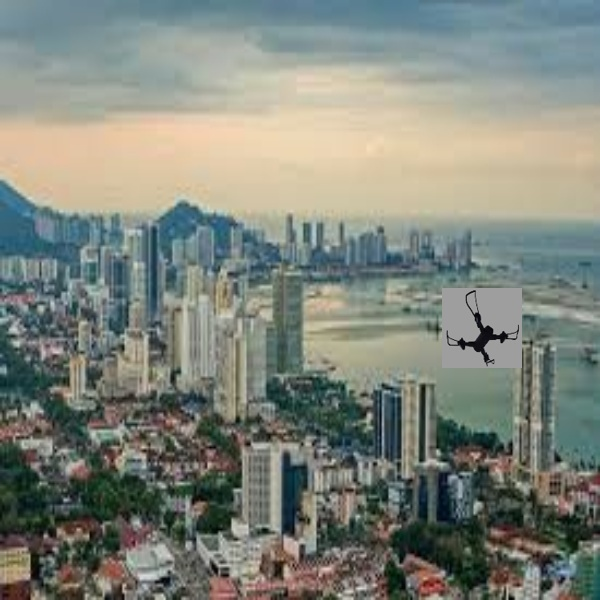drone: (447, 288, 526, 371)
